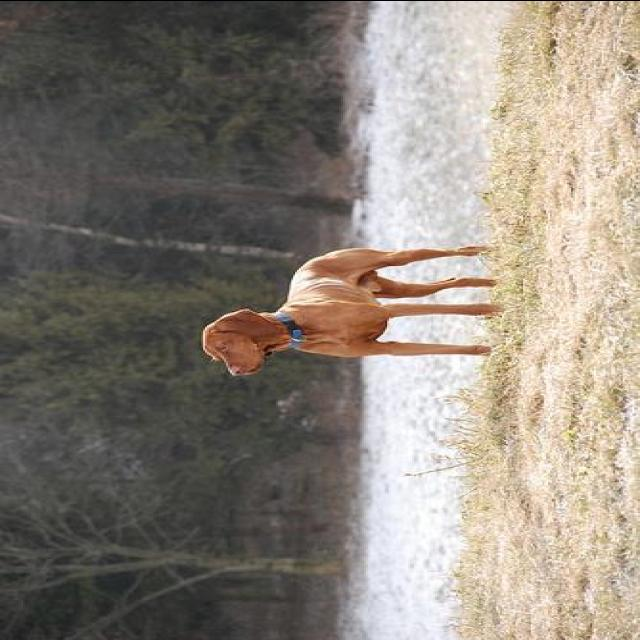vizsla: (199, 246, 496, 374)
